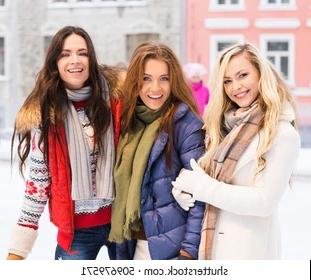coat: (193, 95, 302, 262), (119, 102, 206, 260)
sweater: (5, 80, 121, 257)
trousers: (54, 222, 136, 261)
